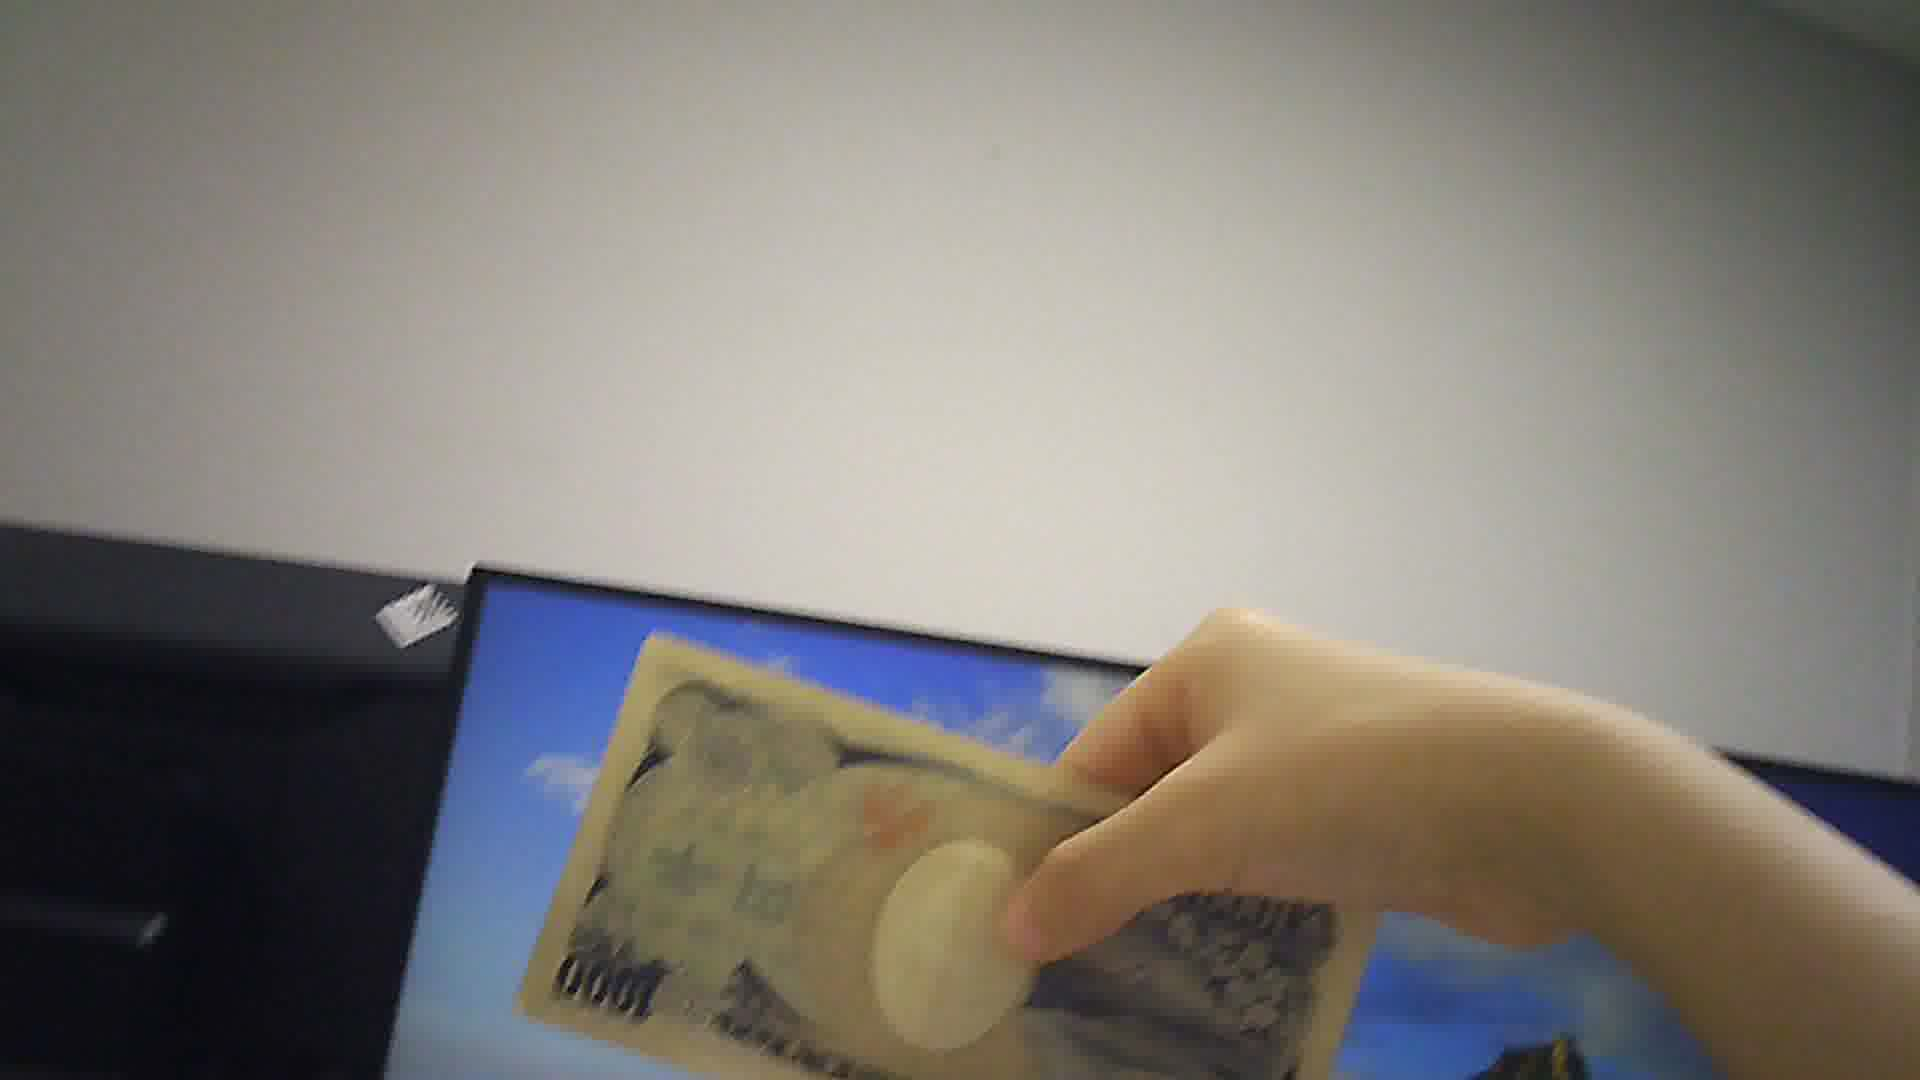1,000 Yen: (501, 621, 1370, 1079)
